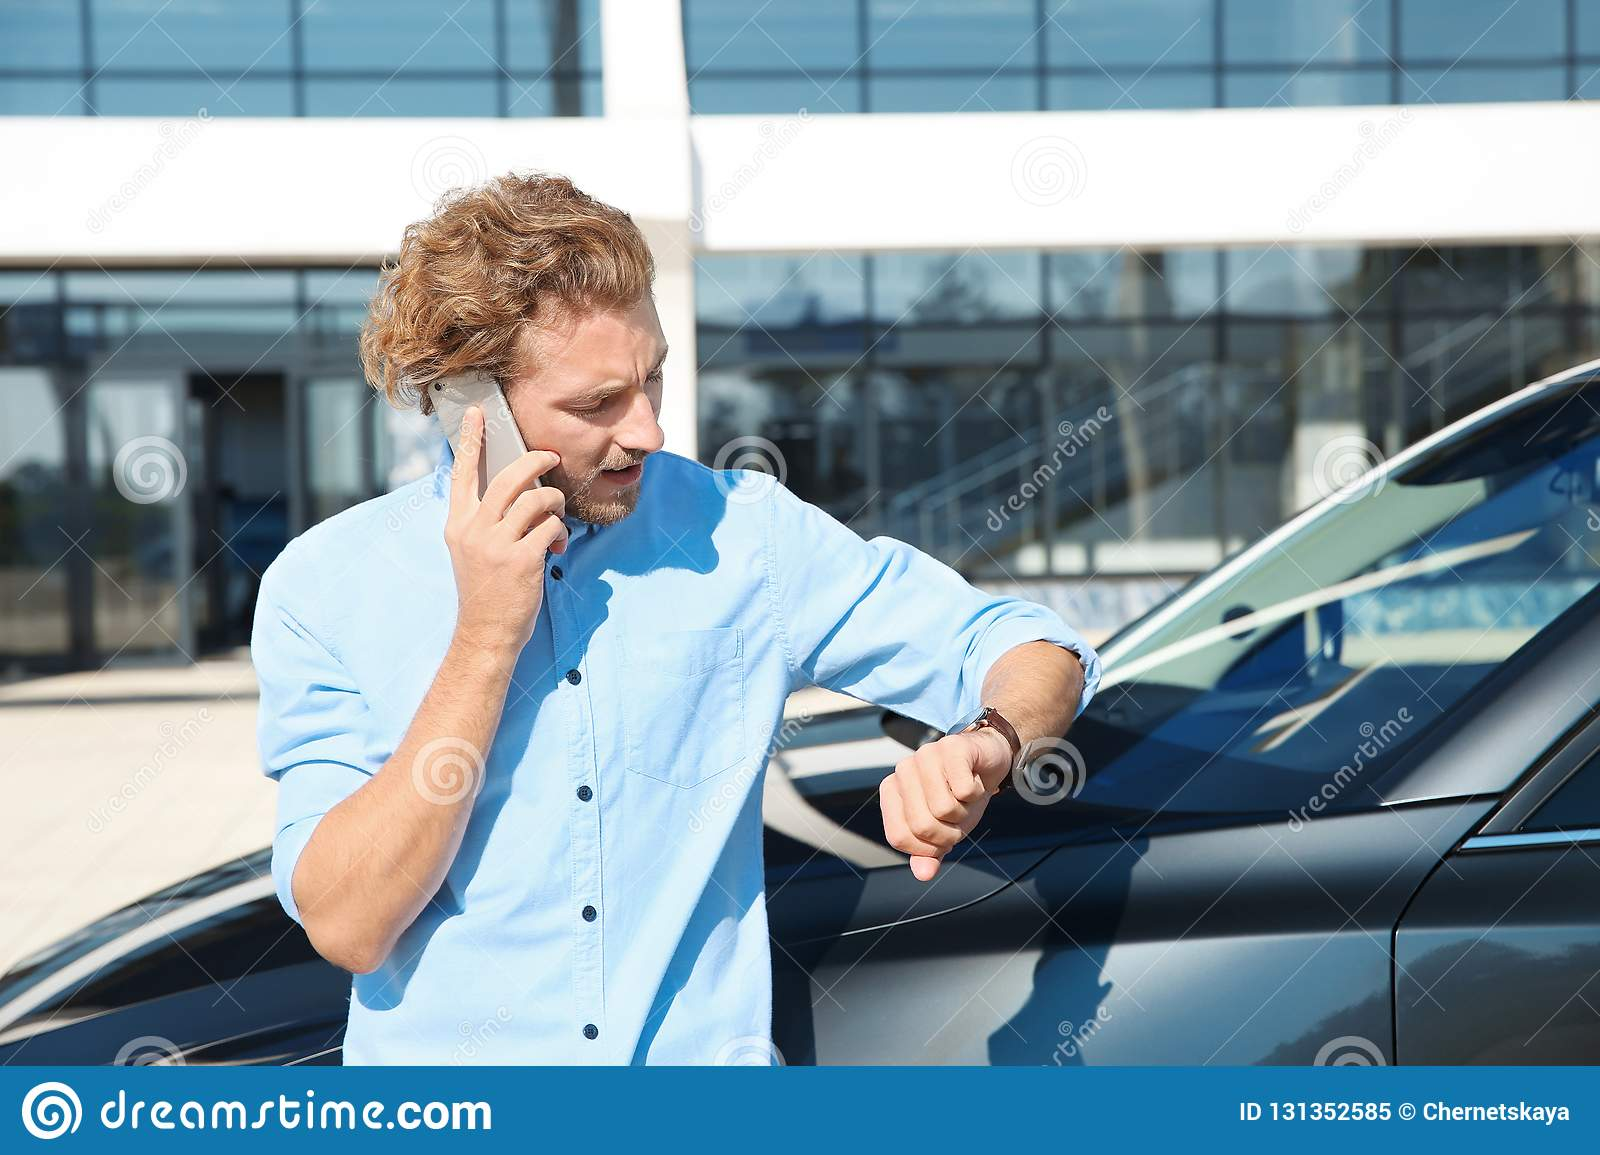phone: (426, 360, 553, 560)
talk: (424, 344, 675, 664)
